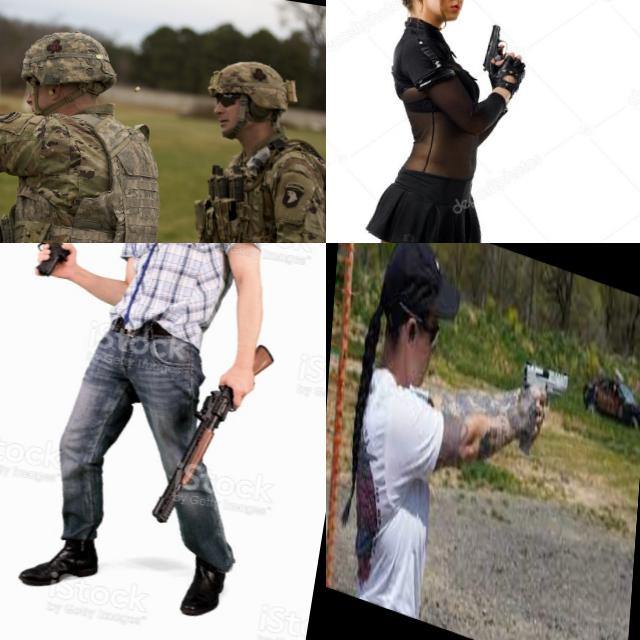handgun: (515, 352, 572, 473), (477, 20, 524, 87), (14, 243, 79, 285), (0, 60, 36, 103)
